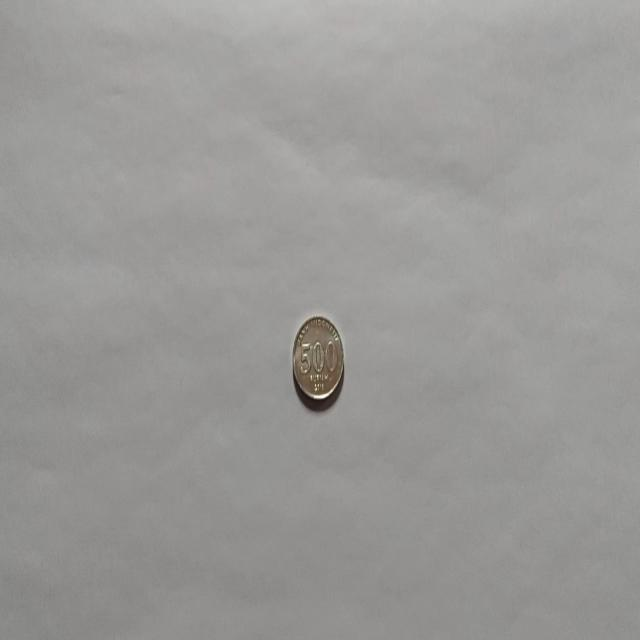lima ratus rupiah: (291, 312, 345, 404)
